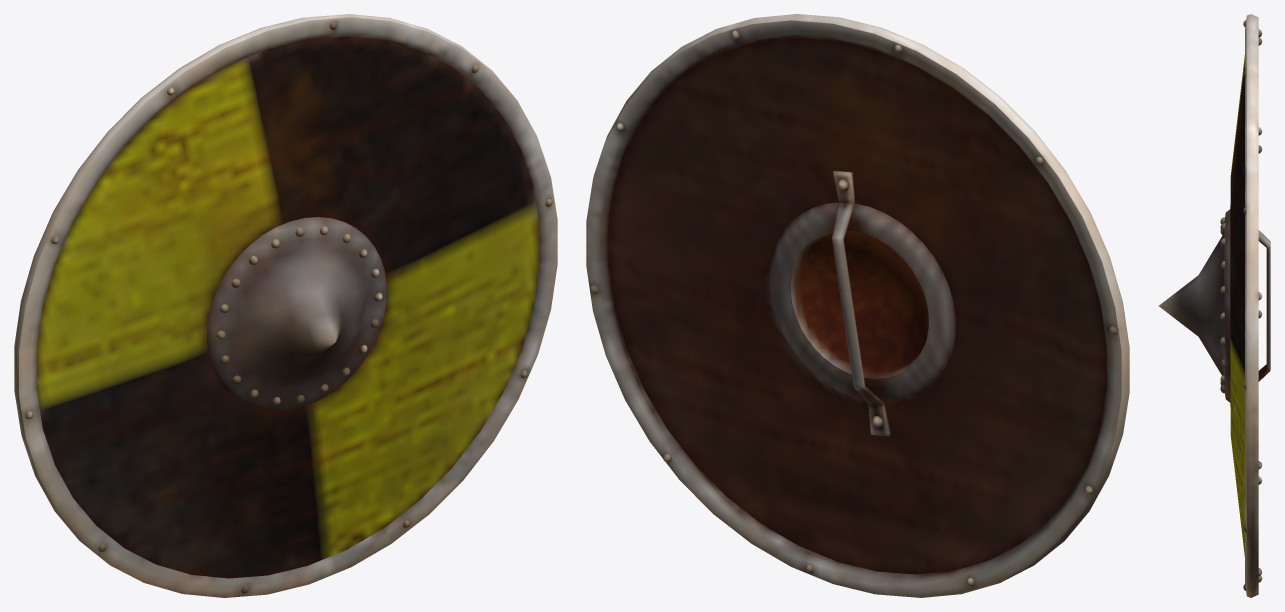
The model's file is shield4.fbx.
The picture shows the model from 3 angles, left to right: view 1: azimuth 30°, elevation 25°; view 2: azimuth 150°, elevation 25°; view 3: azimuth 270°, elevation 25°; orthographic projection. The views are drawn at different scales.
Visible parts, largest first — view 1: shield4_LOD0; view 2: shield4_LOD0; view 3: shield4_LOD0.
Boxes of the visible parts, x1,y1,x2,y2 form: shield4_LOD0: (14,14,557,597); shield4_LOD0: (586,14,1129,597); shield4_LOD0: (1159,14,1270,597).
Size of what is drawn, in the model's own units: 91.94 by 91.94 by 17.67.
